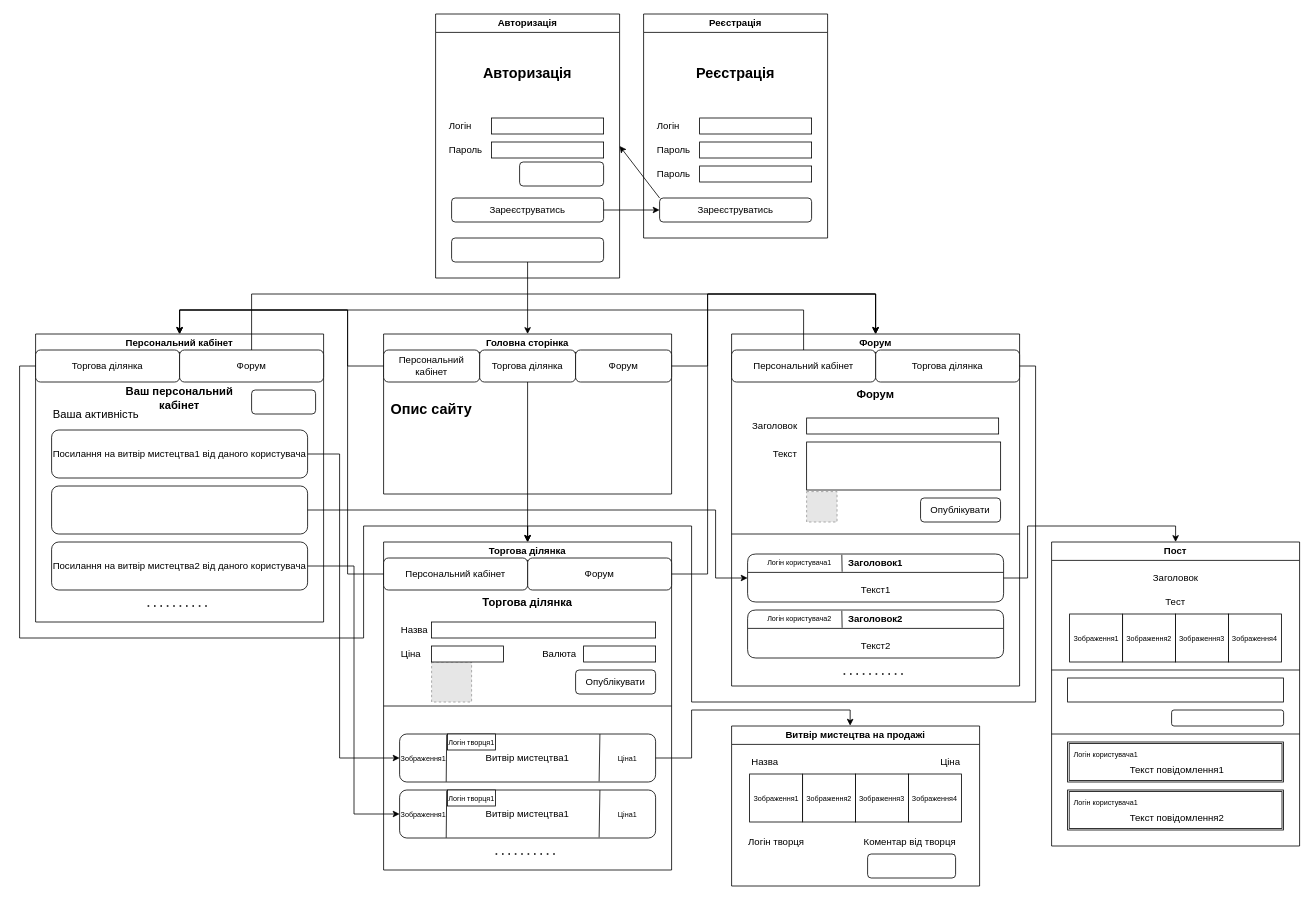
Some shapes in this 1314 by 900 pixel diagram are drawn without their labels. Grey dashed boxes stand in for pictures. The centre of each missing label's shape, as x and y in pixels:
Вийти з запису: pixel 283 401
Забули пароль?: pixel 561 173
Залишити повідомлення: pixel 1227 717
Купити: pixel 911 865
Посилання на пост1 від даного користувача: pixel 179 509
Увійти: pixel 527 249
